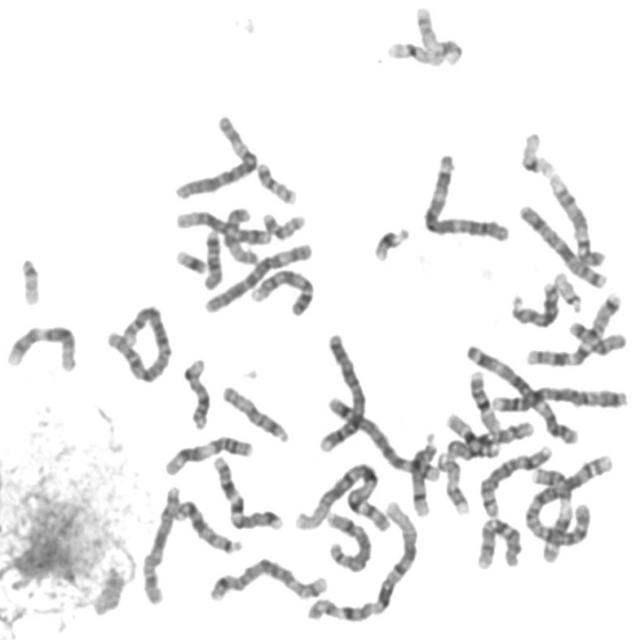A1: (302, 494, 422, 626), (291, 458, 391, 534)
A2: (526, 447, 616, 561), (104, 299, 174, 385)
A3: (463, 339, 581, 446), (418, 148, 513, 244)
B4: (315, 328, 369, 454), (488, 379, 631, 415)
B5: (322, 390, 443, 482), (205, 552, 330, 604)
C10: (444, 415, 536, 459), (472, 511, 525, 572)
C11: (526, 462, 584, 551), (159, 429, 257, 477)
C12: (2, 319, 81, 374), (173, 205, 276, 245)
C6: (200, 235, 316, 315), (171, 109, 263, 202)
C7: (520, 286, 626, 368), (208, 450, 285, 532)
C8: (476, 439, 556, 519), (322, 505, 375, 573)
C9: (544, 167, 607, 269), (248, 263, 318, 317)
D13: (172, 495, 246, 556), (506, 276, 563, 329)
D14: (407, 425, 441, 518), (180, 353, 213, 431)
D15: (218, 379, 292, 444), (220, 201, 262, 266)
E16: (443, 408, 503, 458), (464, 365, 506, 435)
E17: (412, 1, 466, 68), (434, 447, 473, 517)
E18: (564, 315, 630, 358), (199, 224, 226, 291)
F19: (517, 125, 558, 180), (382, 34, 447, 67)
F20: (253, 156, 300, 205), (258, 205, 309, 241)
G21: (368, 220, 414, 264), (172, 243, 210, 276)
G22: (550, 266, 586, 314), (15, 250, 44, 308)
X: (514, 198, 610, 290), (137, 480, 184, 608)
Y: (88, 563, 127, 617)
